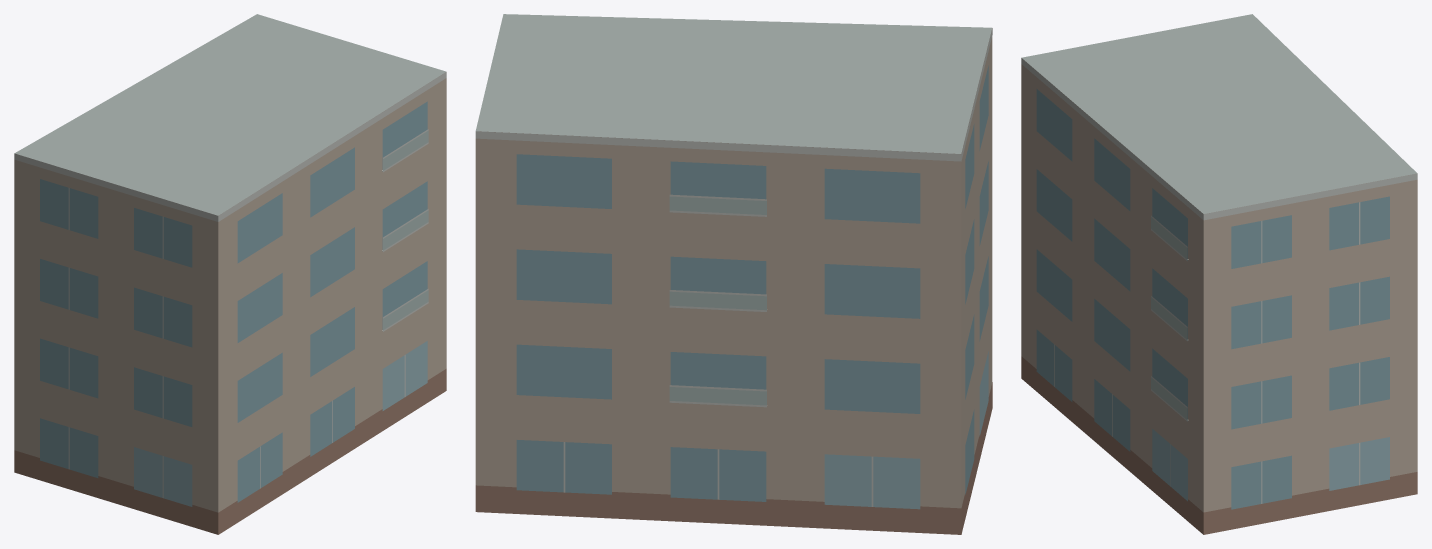
The model's file is survey-upis-32724076.glb.
3 renders of one model, left to right at view 1: azimuth 30°, elevation 25°; view 2: azimuth 150°, elevation 25°; view 3: azimuth 270°, elevation 25°, orthographic. The views are drawn at different scales.
Parts seen in each view (by area): view 1: survey-upis-32724076.tmp; view 2: survey-upis-32724076.tmp; view 3: survey-upis-32724076.tmp.
Boxes of the visible parts, x1,y1,x2,y2 form: survey-upis-32724076.tmp: (14,14,446,534); survey-upis-32724076.tmp: (475,14,992,534); survey-upis-32724076.tmp: (1021,14,1417,534).
Bounding box in the file's own units: 16.74 × 12.5 × 14.
